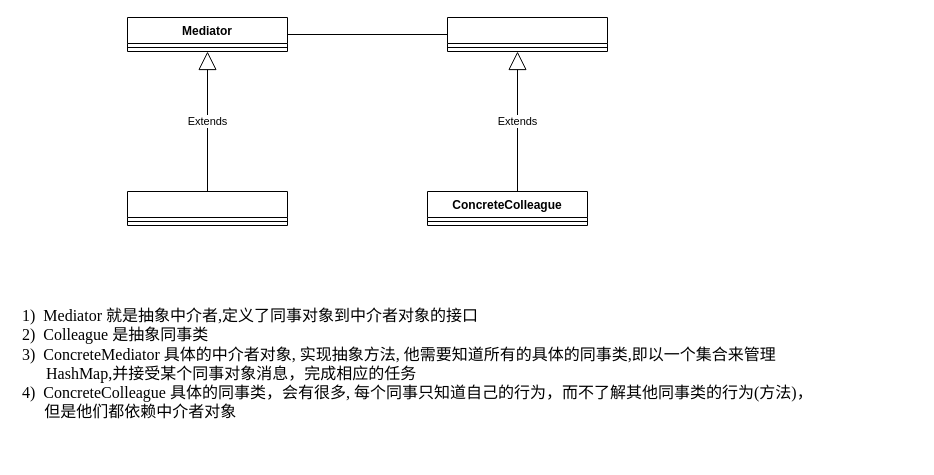
Some shapes in this 934 by 475 pixel diagram are drawn without their labels. The centre of each missing label's shape, as x and y in pixels:
"Colleague" goes at (527,34).
"ConcreteMediator" goes at (207,208).
